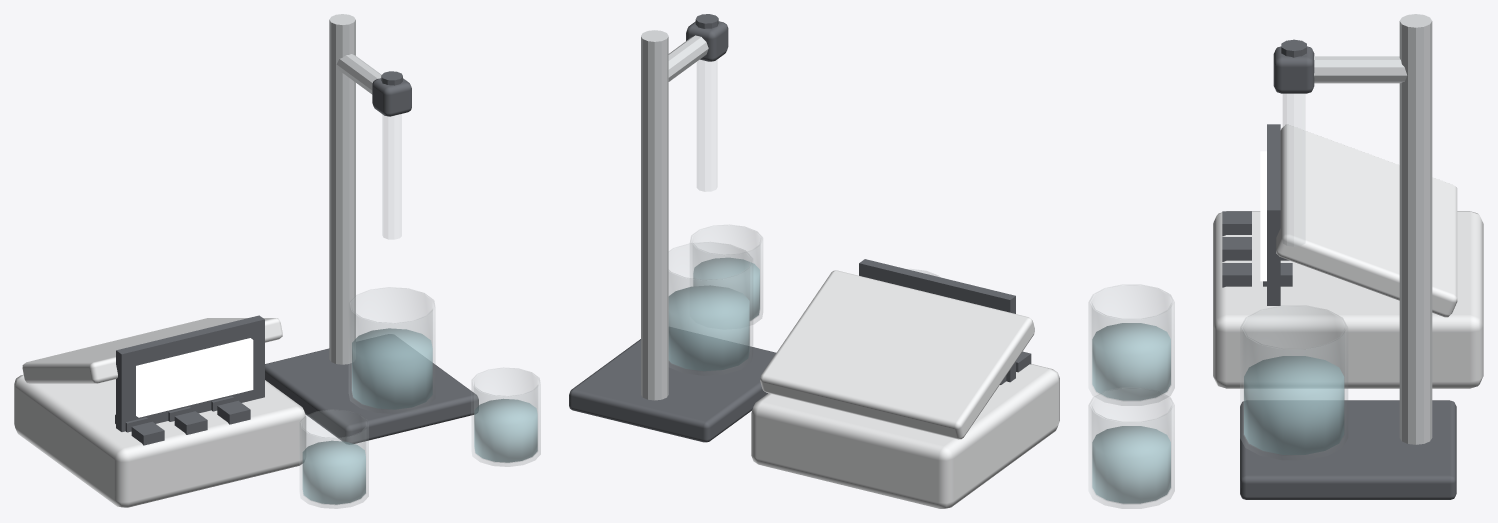
The model's file is ph-meter.glb.
The picture shows the model from 3 angles, left to right: view 1: azimuth 30°, elevation 25°; view 2: azimuth 150°, elevation 25°; view 3: azimuth 270°, elevation 25°; orthographic projection. The views are drawn at different scales.
Visible parts, largest first — view 1: ph-meter; view 2: ph-meter; view 3: ph-meter.
Boxes of the visible parts, x1,y1,x2,y2 form: ph-meter: [14, 14, 540, 508]; ph-meter: [569, 14, 1059, 508]; ph-meter: [1088, 14, 1483, 508].
Size of the model in its own units: 0.4012 by 0.36 by 0.292.
